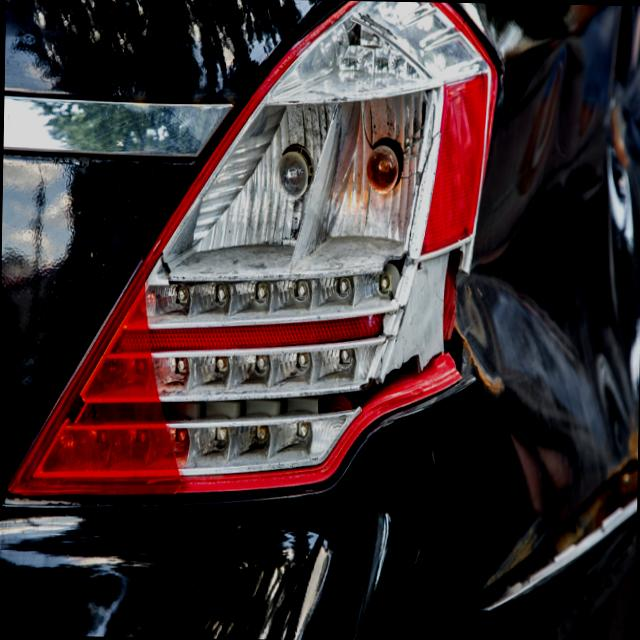Dechirure: (465, 457, 638, 623)
